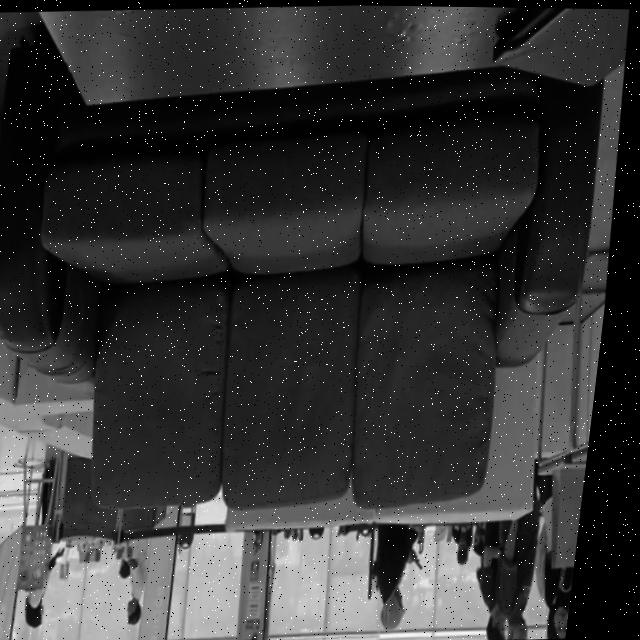sandalye: (46, 153, 237, 503), (364, 114, 531, 504), (209, 131, 370, 506)
